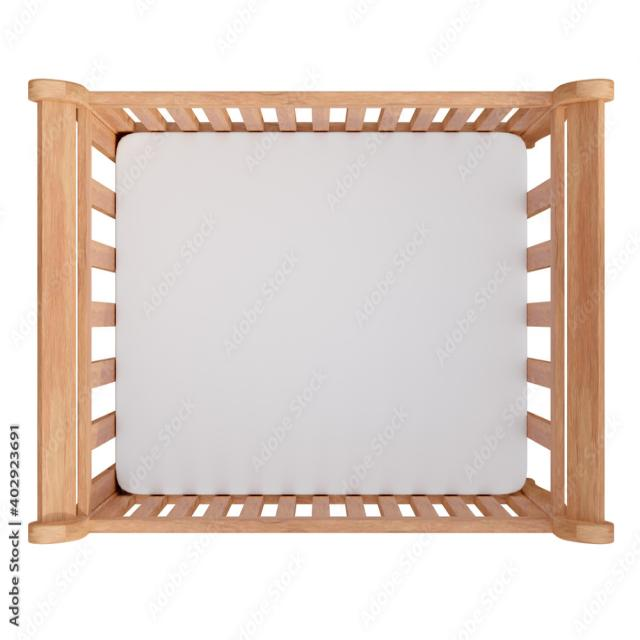crib: (27, 75, 615, 545)
